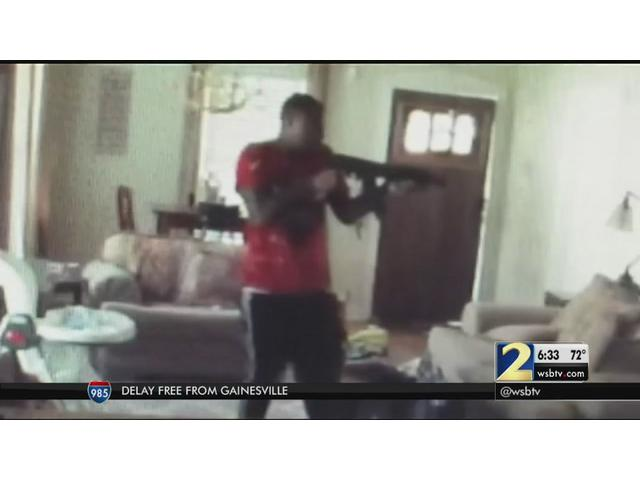rifle: (304, 150, 446, 223)
